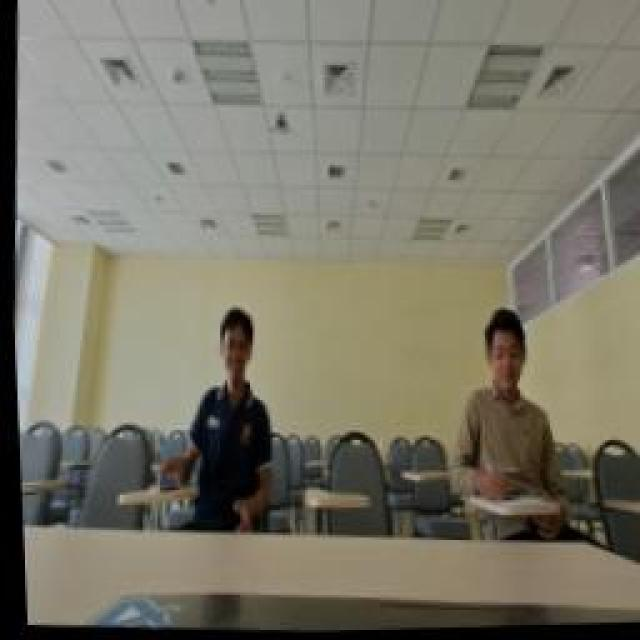study: (435, 305, 563, 510)
